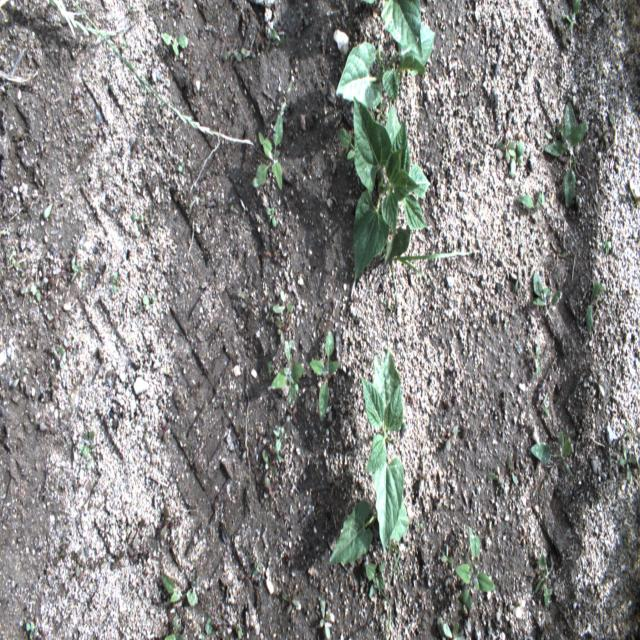crop: (329, 346, 409, 565), (353, 96, 429, 286), (335, 17, 436, 107), (361, 0, 422, 60)
weed: (70, 0, 254, 147), (382, 251, 476, 311), (544, 104, 586, 209), (454, 528, 495, 619), (43, 1, 127, 39), (310, 329, 340, 422), (252, 112, 283, 192), (270, 339, 304, 408), (530, 430, 574, 477), (532, 270, 563, 314), (161, 572, 198, 608), (532, 553, 554, 607), (586, 278, 606, 330), (516, 188, 545, 216), (161, 30, 189, 58), (365, 560, 385, 599), (18, 277, 44, 304), (337, 127, 358, 160), (508, 138, 525, 177), (618, 445, 636, 480), (494, 134, 515, 164), (437, 619, 468, 639), (386, 537, 400, 581), (561, 0, 581, 29), (318, 599, 332, 638), (281, 588, 300, 616), (220, 42, 242, 65), (272, 290, 294, 313), (164, 618, 187, 639), (261, 449, 278, 477), (485, 465, 505, 487), (240, 35, 258, 59), (272, 425, 285, 453), (275, 316, 286, 348), (82, 431, 94, 458), (12, 370, 26, 393), (263, 478, 279, 498), (446, 425, 458, 451), (60, 338, 74, 360), (142, 293, 156, 315), (597, 126, 609, 151), (266, 203, 277, 230), (372, 98, 386, 119), (38, 262, 49, 288), (70, 240, 79, 270), (509, 456, 517, 483), (71, 264, 82, 282), (112, 270, 119, 296), (25, 621, 35, 639)
